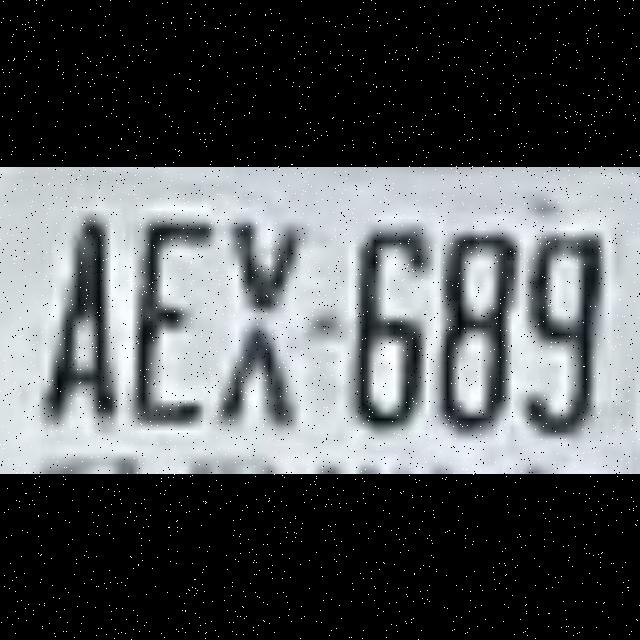6: (357, 187, 438, 458)
8: (442, 187, 524, 458)
9: (530, 187, 610, 458)
A: (40, 187, 121, 458)
E: (123, 187, 204, 458)
X: (222, 188, 302, 460)
